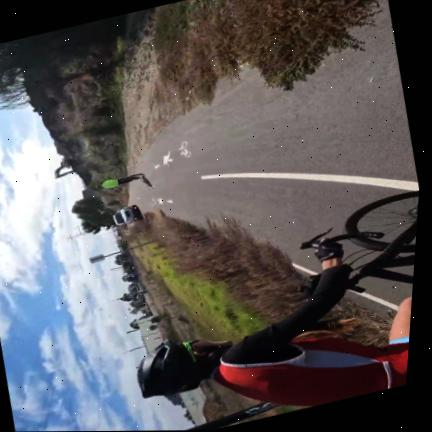Bike_Lane: (129, 0, 419, 270)
